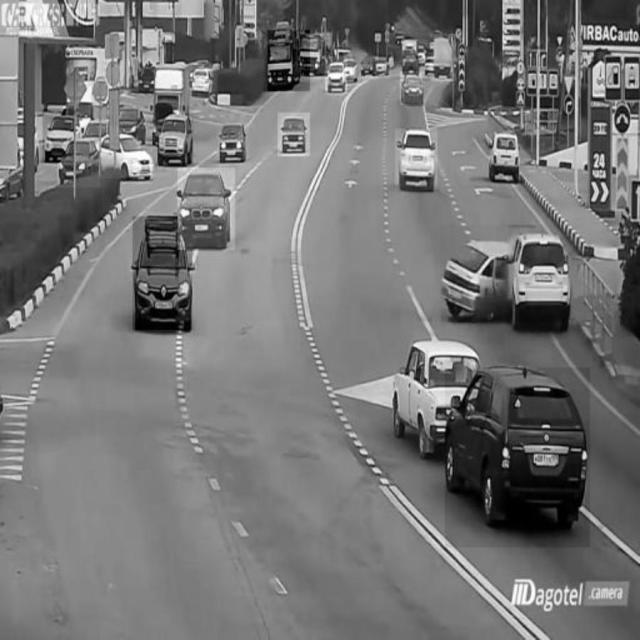accident: (440, 226, 584, 324)
vehicle: (446, 367, 590, 547), (397, 332, 469, 456), (133, 217, 193, 330), (178, 168, 235, 250), (99, 126, 154, 178), (394, 129, 438, 190), (268, 30, 310, 91), (157, 107, 194, 167), (58, 136, 100, 188), (486, 128, 521, 184), (43, 109, 73, 163), (278, 113, 310, 157), (217, 119, 247, 161), (430, 34, 456, 81), (190, 62, 218, 97), (325, 56, 349, 93), (399, 71, 423, 105)
